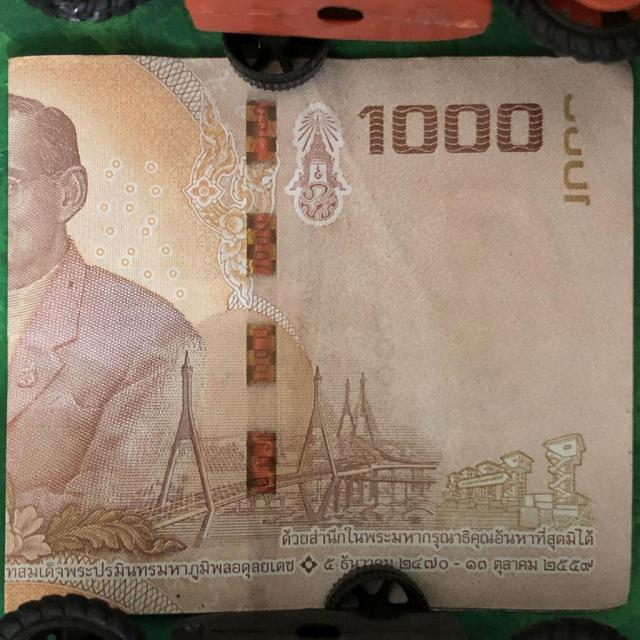THAI1000: (4, 55, 632, 614)
